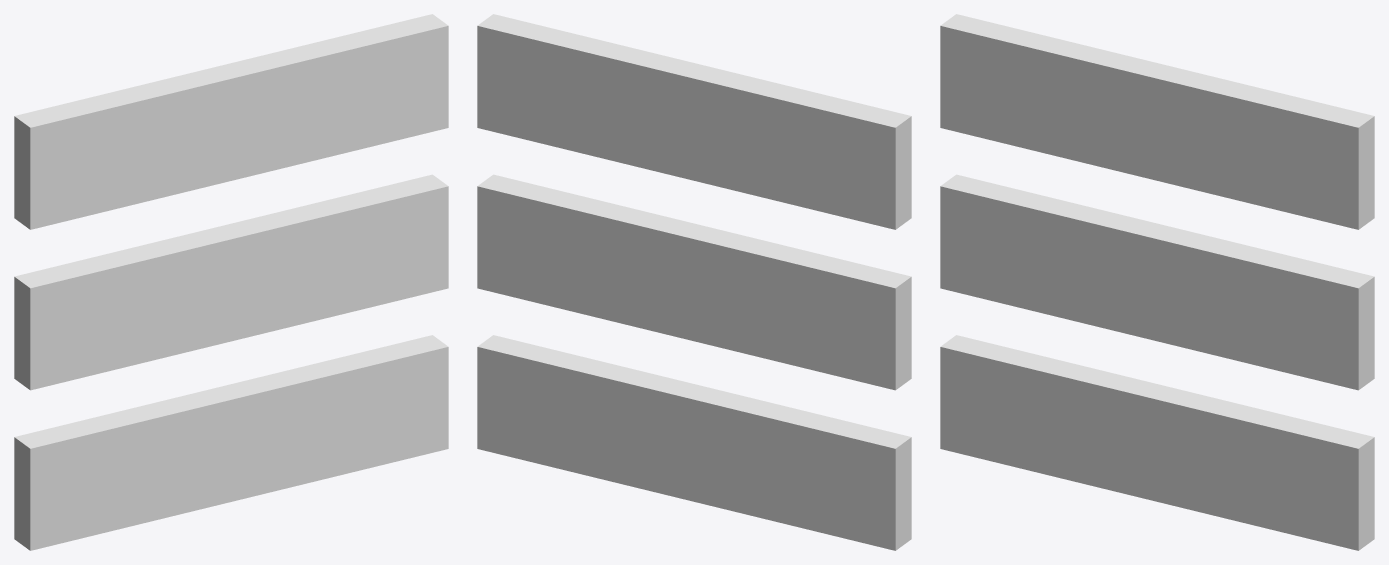
File: army_specialist_insignia.glb
The picture shows the model from 3 angles, left to right: view 1: azimuth 30°, elevation 25°; view 2: azimuth 150°, elevation 25°; view 3: azimuth 330°, elevation 25°; orthographic projection.
Parts seen in each view (by area): view 1: accessory; view 2: accessory; view 3: accessory.
Part boxes in pixels (x1,y1,x2,y2): accessory: [14, 14, 448, 550]; accessory: [477, 14, 911, 550]; accessory: [940, 14, 1374, 550].
Size of the model in its own units: 0.06 by 0.058 by 0.004.
1 material, 1 textured.
